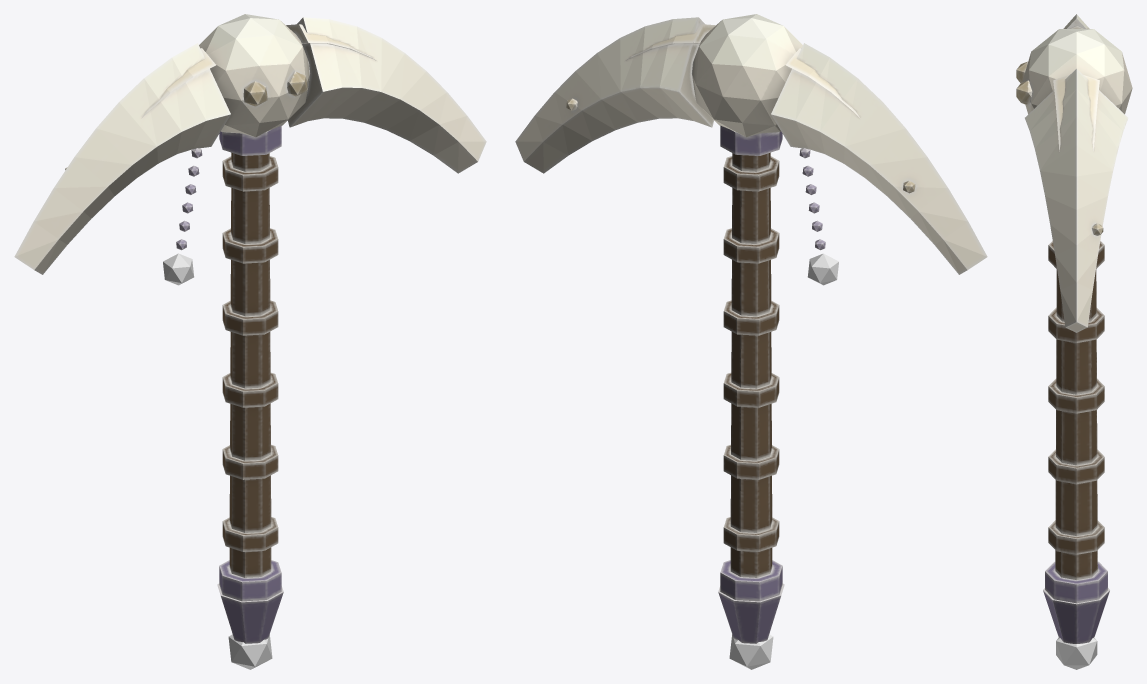
File: FossilPickaxe.glb
3 views of the same model, side by side, from view 1: azimuth 30°, elevation 25°; view 2: azimuth 150°, elevation 25°; view 3: azimuth 270°, elevation 25° (orthographic). The views are drawn at different scales.
Parts seen in each view (by area): view 1: Body__Tex, Head__Gem; view 2: Body__Tex, Head__Gem; view 3: Body__Tex, Head__Gem.
Boxes of the visible parts, left/top/right/bottom form: Body__Tex: left=14, top=14, right=486, bottom=643; Head__Gem: left=163, top=253, right=272, bottom=669; Body__Tex: left=515, top=14, right=987, bottom=643; Head__Gem: left=729, top=253, right=838, bottom=669; Body__Tex: left=1016, top=14, right=1132, bottom=643; Head__Gem: left=1056, top=637, right=1097, bottom=669.
Bounding box in the file's own units: 3.09 × 4.07 × 0.6721.
Materials: 1 (1 with a texture image).
